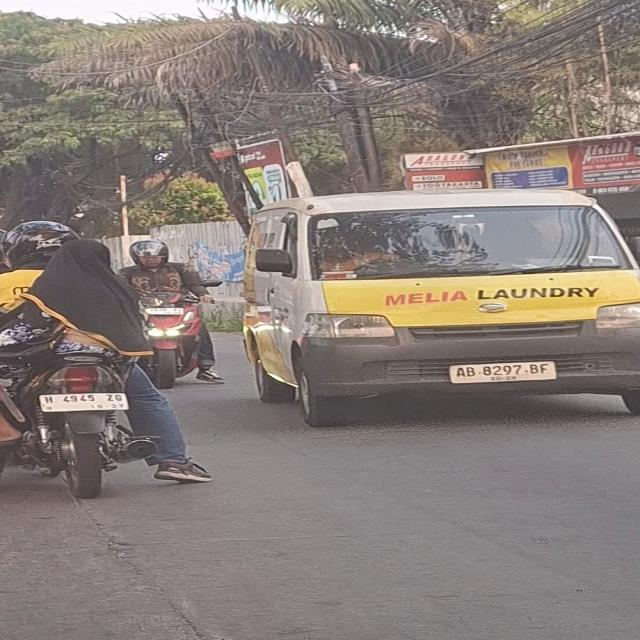WithHelmet: (0, 220, 214, 484), (117, 239, 226, 385)
